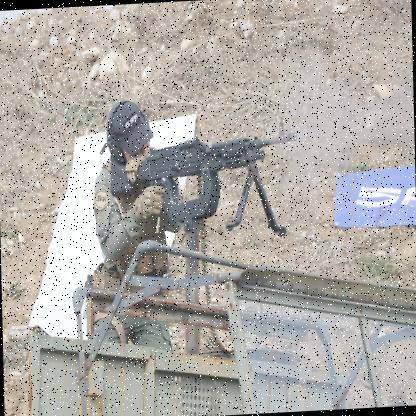rifle: (114, 122, 300, 220)
